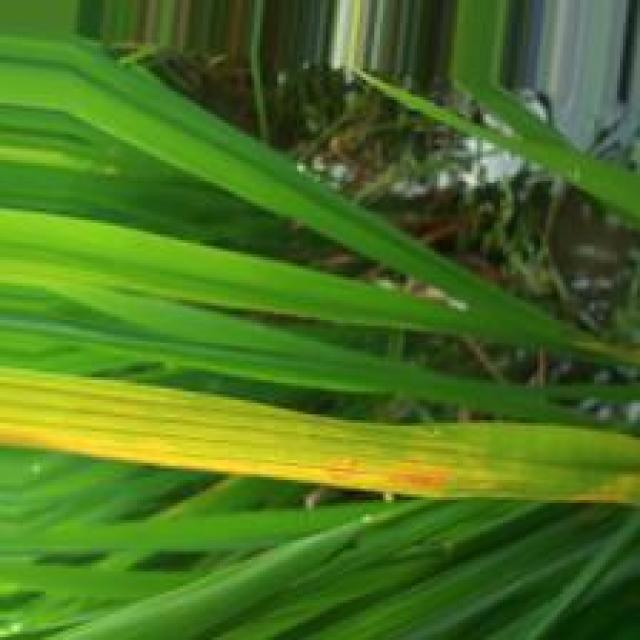Bacterial_Leaf_Blight: (0, 421, 319, 484), (362, 467, 450, 498), (319, 461, 365, 484)
